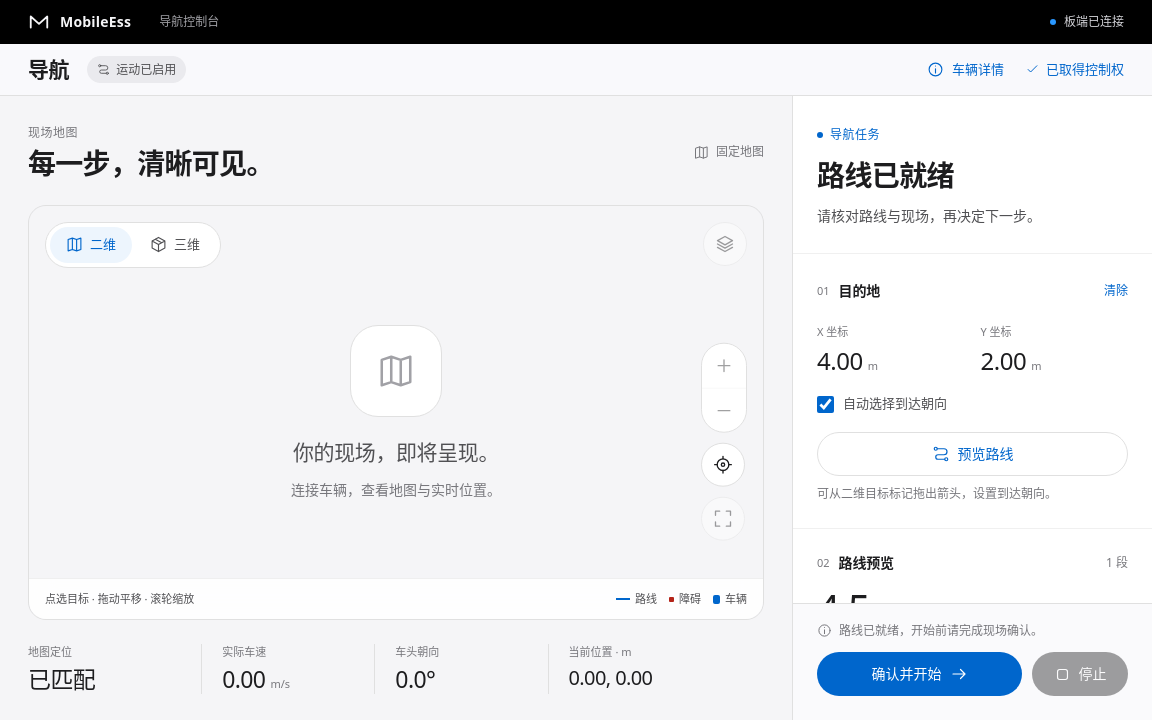
Test case: clearing the destination cannot silently reuse the server preview goal
Step 1. Click the button "清除" → [1116, 291], box [1104, 278, 1128, 304]
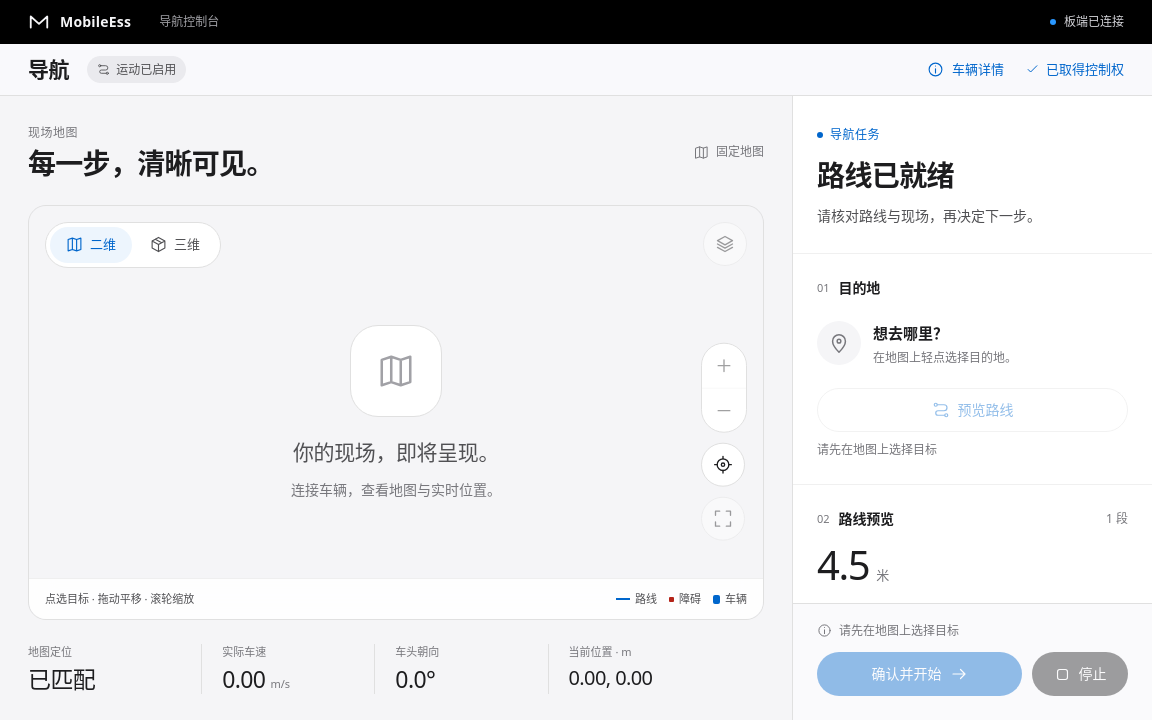
Now the text "想去哪里？" is shown, box [873, 323, 948, 343]
Now the button "确认并开始" is disabled, box [817, 652, 1022, 696]
